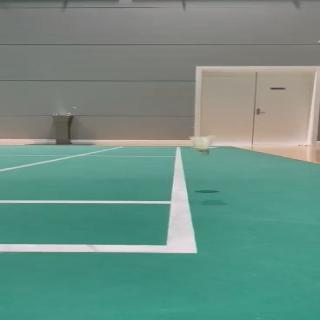Shuttle: (188, 136, 213, 154)
